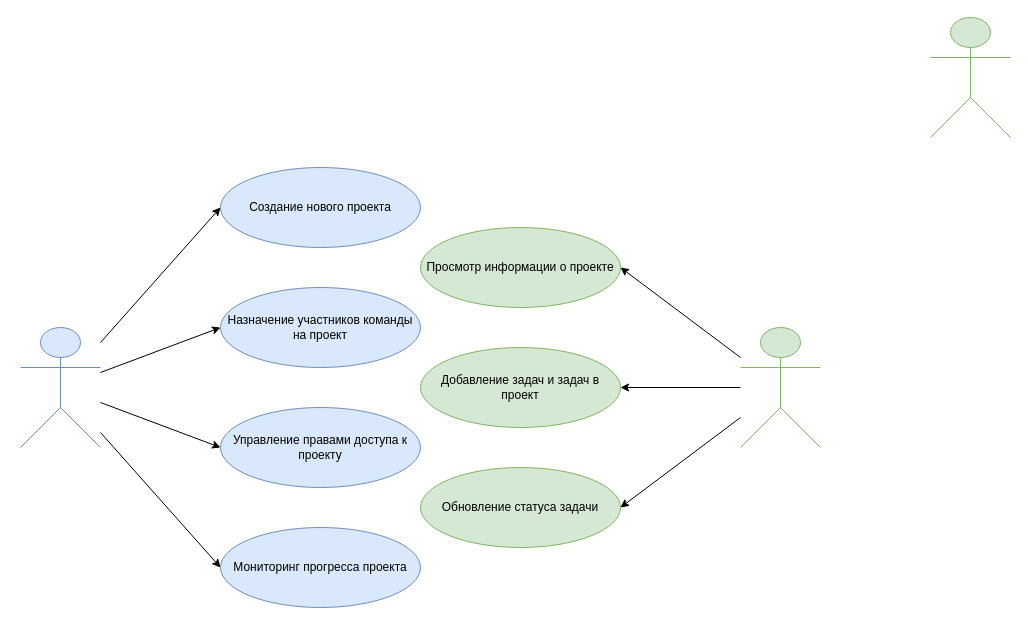
Image size: 1028x625. Some labels were removed from this diagram. The shapes that lost their labels are listed below. From the top down, each one's box as (x1, y1, x2, y2) in pixels, then its label:
(930, 16, 1010, 138): Пользователь
(20, 326, 100, 448): Администратор
(740, 326, 820, 448): Участник
